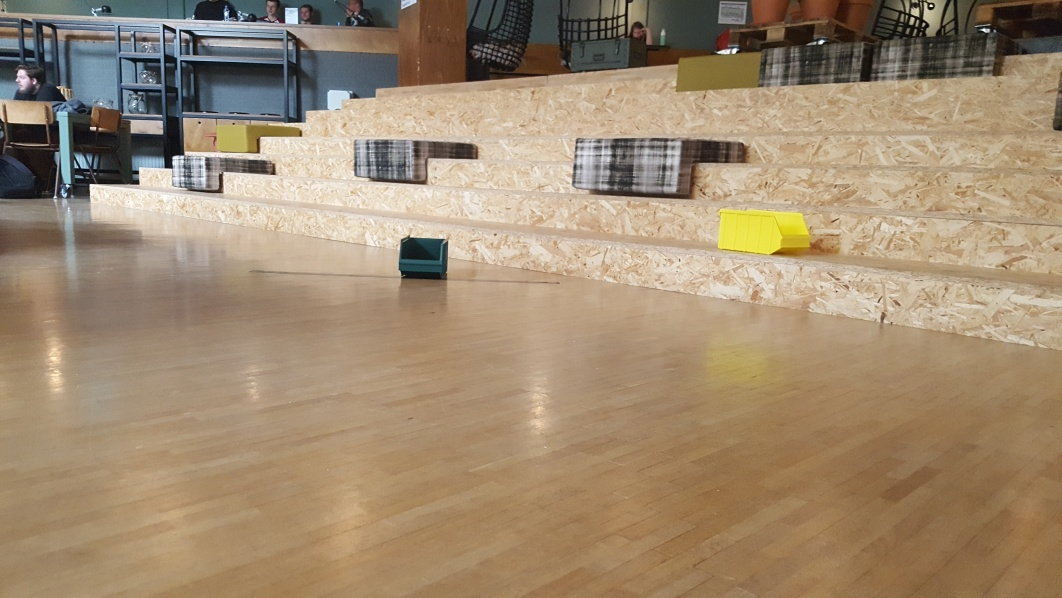tray: (716, 207, 812, 260), (397, 232, 449, 279)
